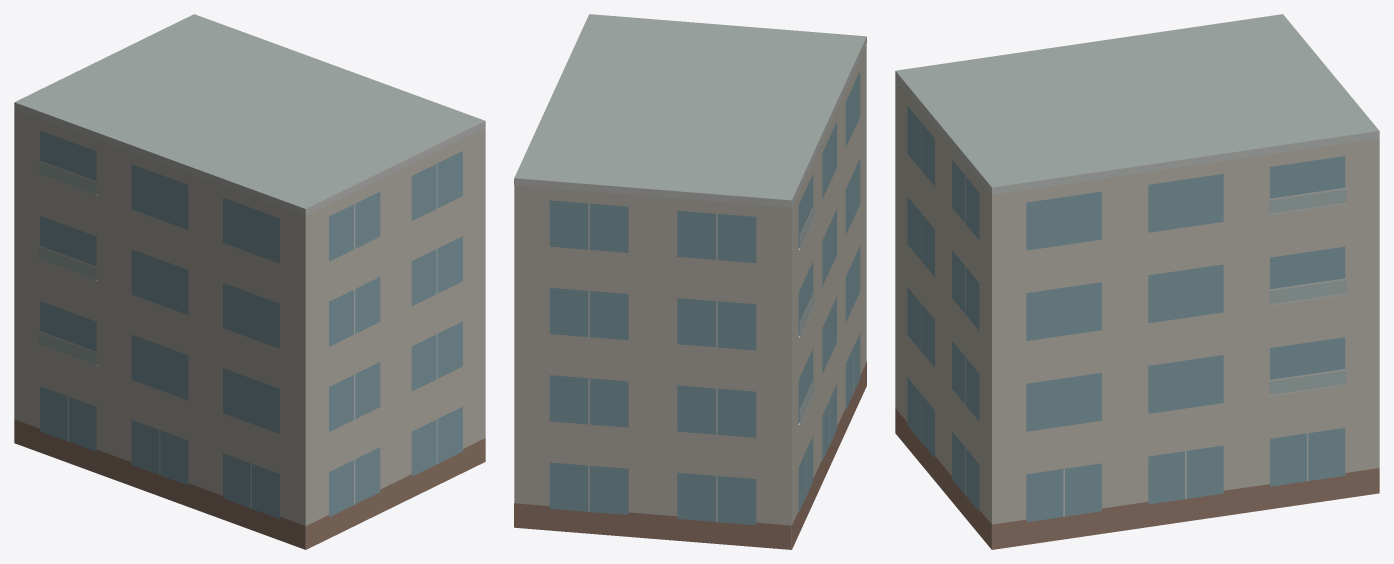
Rendered from survey-upis-32568649.glb.
The picture shows the model from 3 angles, left to right: view 1: azimuth 30°, elevation 25°; view 2: azimuth 150°, elevation 25°; view 3: azimuth 270°, elevation 25°; orthographic projection. The views are drawn at different scales.
Visible parts, largest first — view 1: survey-upis-32568649.tmp; view 2: survey-upis-32568649.tmp; view 3: survey-upis-32568649.tmp.
Boxes of the visible parts, x1,y1,x2,y2 form: survey-upis-32568649.tmp: [14, 14, 485, 549]; survey-upis-32568649.tmp: [514, 14, 866, 549]; survey-upis-32568649.tmp: [895, 14, 1379, 549].
Bounding box in the file's own units: 12.13 × 11.8 × 14.3.
